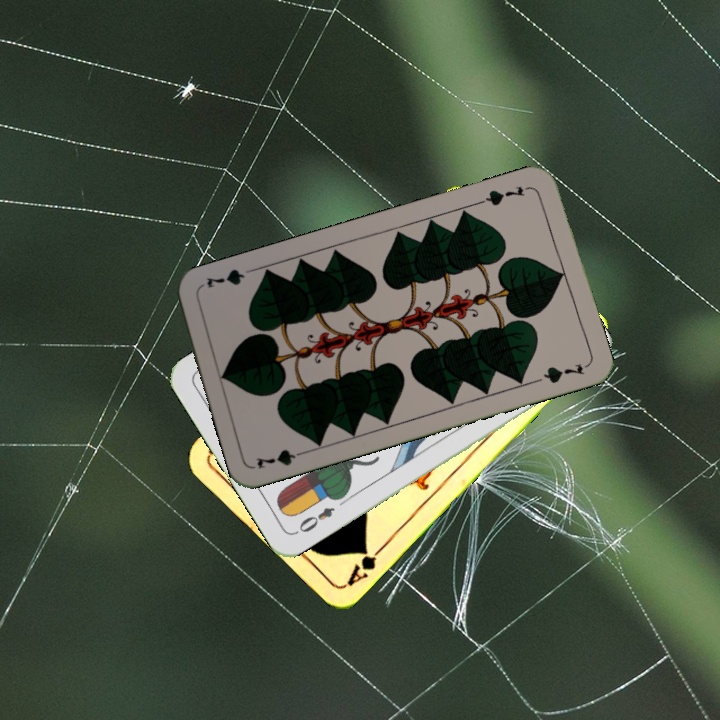EO: (291, 503, 338, 537)
G7: (476, 182, 534, 209), (252, 445, 311, 471)
GA: (342, 540, 388, 589)
